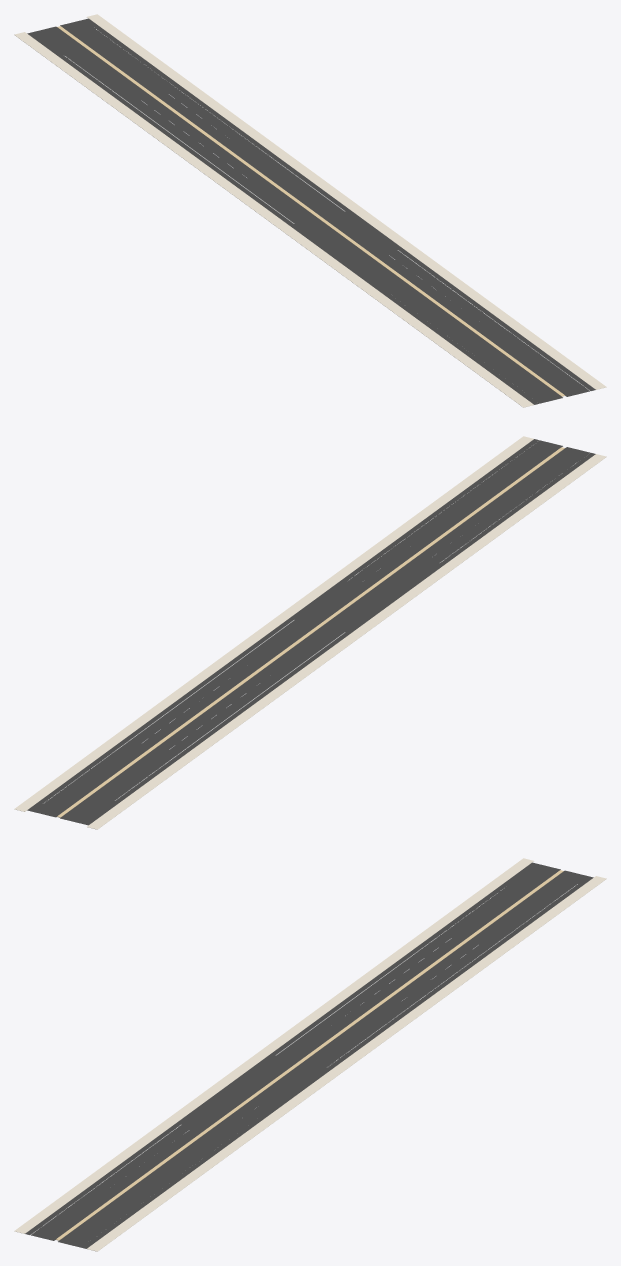
Rendered from duongdi.fbx.
3 renders of one model, top to bottom at view 1: azimuth 30°, elevation 25°; view 2: azimuth 150°, elevation 25°; view 3: azimuth 330°, elevation 25°, orthographic.
Parts seen in each view (by area): view 1: VBox013, VBox010, VBox003, VBox006, VBox014, VBox011, VBox007, VBox004, VBox009, VBox001; view 2: VBox013, VBox010, VBox003, VBox006, VBox014, VBox011, VBox007, VBox004, VBox009, VBox001; view 3: VBox013, VBox010, VBox003, VBox006, VBox011, VBox014, VBox004, VBox007, VBox009, VBox001.
Boxes of the visible parts, bbox=[...] form: VBox013: bbox=[27, 26, 411, 294]; VBox010: bbox=[60, 18, 402, 255]; VBox003: bbox=[375, 249, 595, 396]; VBox006: bbox=[160, 128, 562, 404]; VBox014: bbox=[14, 32, 292, 230]; VBox011: bbox=[87, 14, 365, 213]; VBox007: bbox=[265, 218, 533, 407]; VBox004: bbox=[355, 210, 606, 389]; VBox009: bbox=[57, 26, 322, 218]; VBox001: bbox=[319, 218, 565, 396]; VBox013: bbox=[60, 557, 444, 825]; VBox010: bbox=[27, 580, 369, 817]; VBox003: bbox=[342, 439, 562, 586]; VBox006: bbox=[416, 447, 595, 564]; VBox014: bbox=[87, 630, 365, 829]; VBox011: bbox=[14, 613, 292, 811]; VBox007: bbox=[346, 454, 606, 647]; VBox004: bbox=[282, 436, 533, 615]; VBox009: bbox=[57, 624, 322, 817]; VBox001: bbox=[319, 447, 564, 625]; VBox013: bbox=[176, 862, 560, 1130]; VBox010: bbox=[251, 870, 593, 1107]; VBox003: bbox=[58, 1100, 278, 1248]; VBox006: bbox=[25, 1123, 204, 1240]; VBox011: bbox=[328, 876, 606, 1074]; VBox014: bbox=[255, 858, 533, 1057]; VBox004: bbox=[87, 1062, 355, 1251]; VBox007: bbox=[14, 1054, 265, 1233]; VBox009: bbox=[298, 870, 563, 1062]; VBox001: bbox=[55, 1062, 301, 1240].
Bounding box in the file's own units: 230 × 1.5 × 2430.
